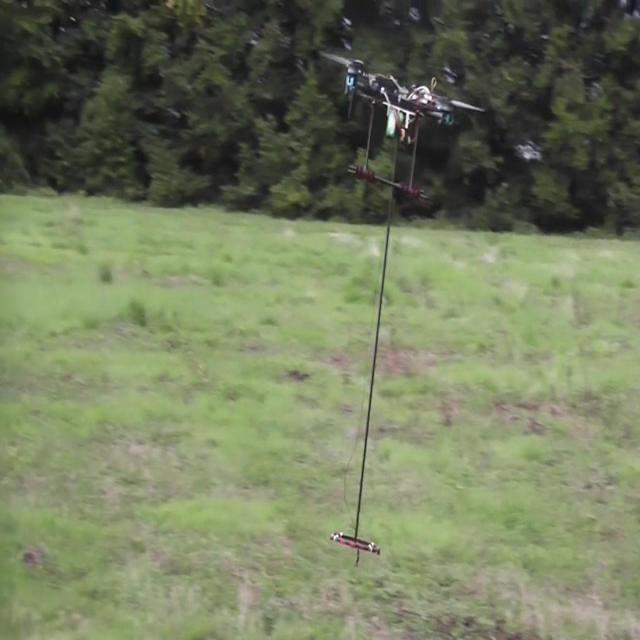drone: (323, 48, 487, 205)
